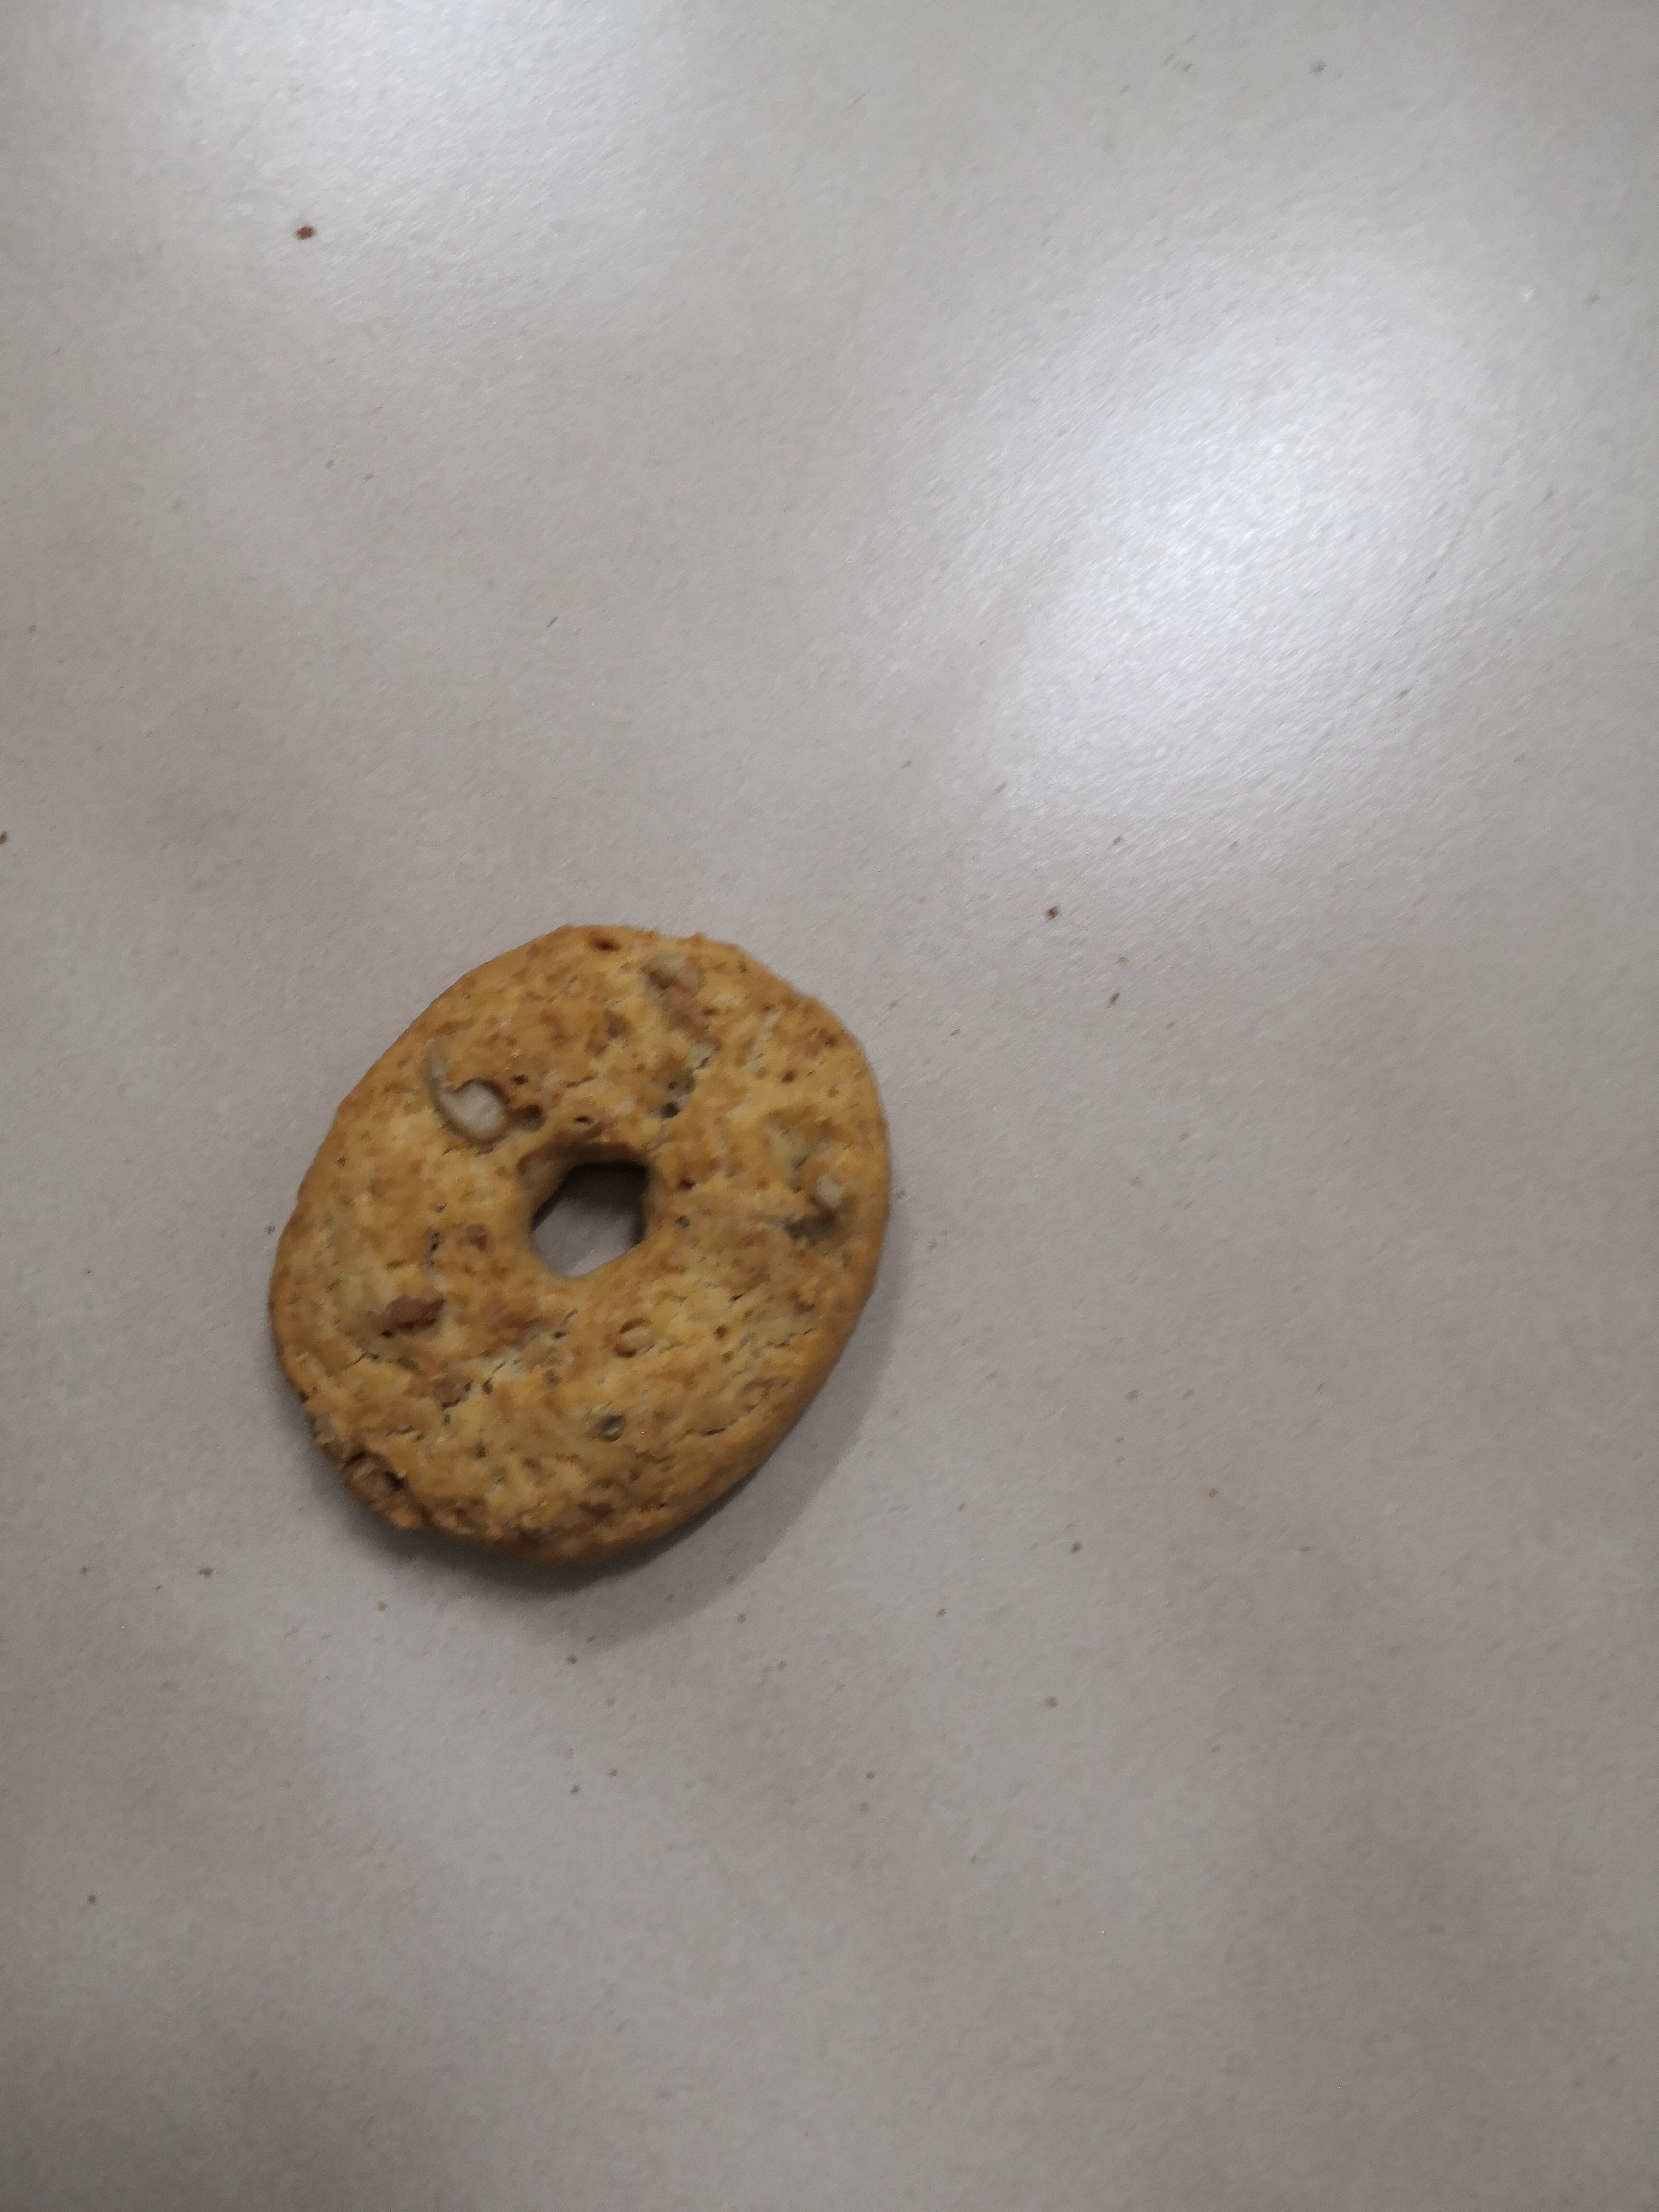Cookie4: (258, 921, 903, 1573)
